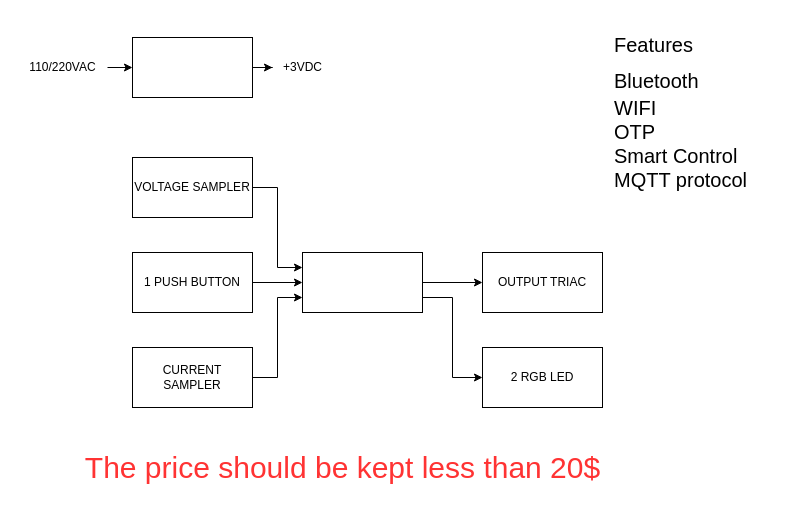
Some shapes in this 789 by 509 pixel diagram are drawn without their labels. Here are the shapes that lost their labels. From the top down, the centre of each, then its label:
At pixel 192 67: "AC/DC TRANSFORMERLESS CONVERTER".
At pixel 362 282: "ESP32".
